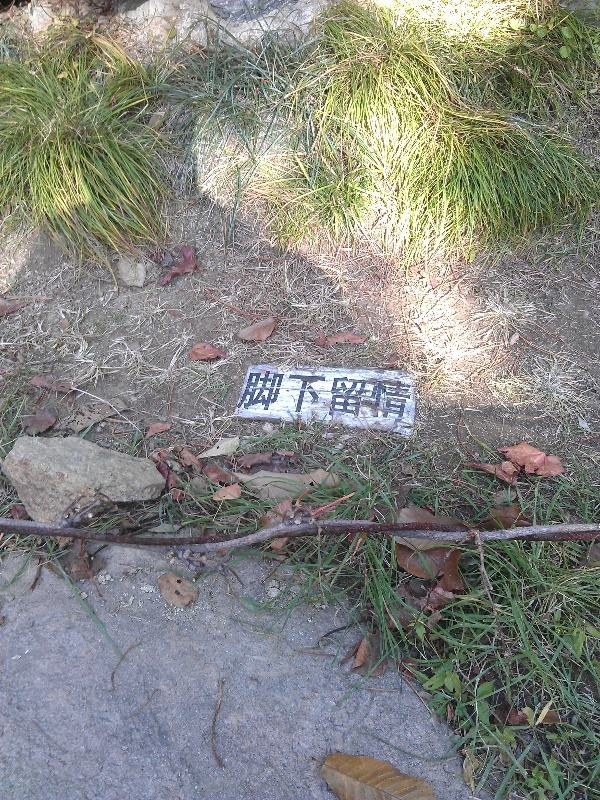text: (257, 369, 272, 424), (273, 369, 288, 424), (289, 369, 304, 424), (305, 369, 320, 424), (321, 369, 336, 424), (337, 369, 352, 424), (353, 369, 368, 424), (369, 369, 384, 424), (385, 369, 400, 424), (401, 369, 414, 424), (249, 369, 256, 424)
